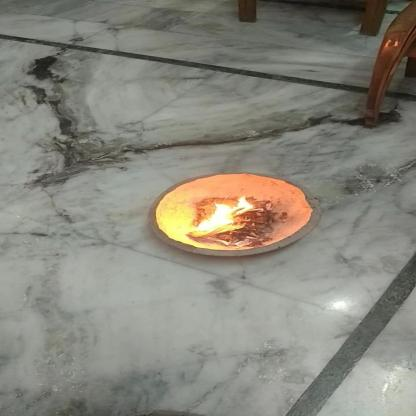fire: (195, 193, 260, 240)
